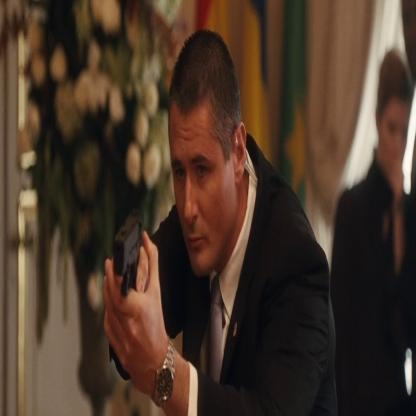gun: (106, 184, 145, 328)
